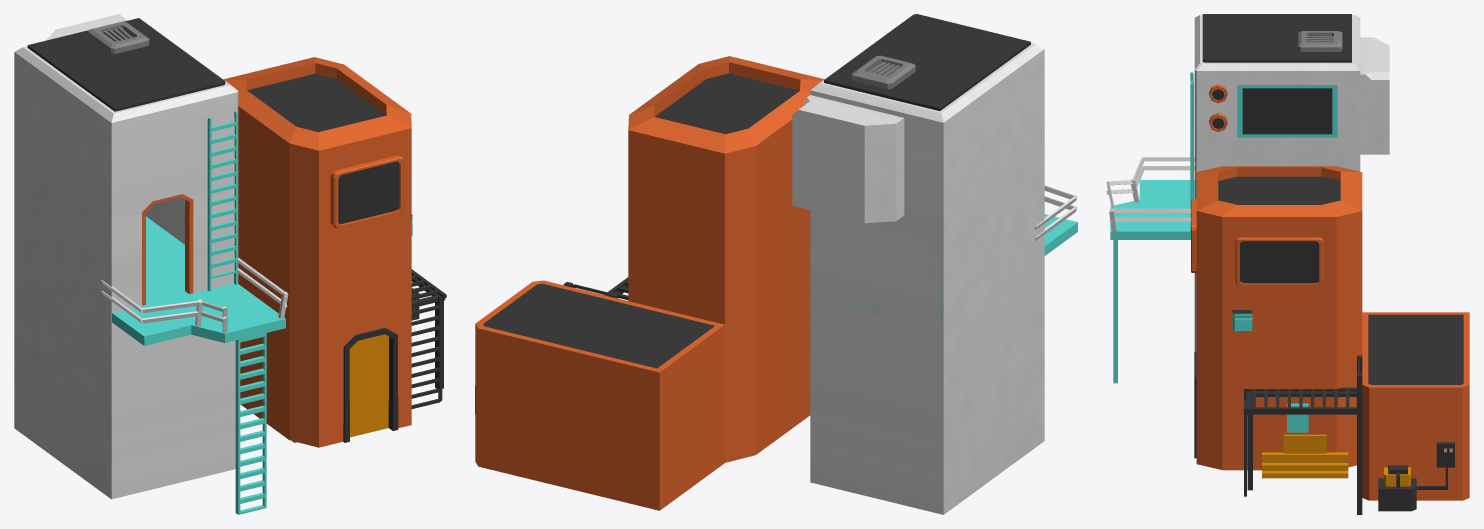
Rendered from building1.glb.
3 renders of one model, left to right at view 1: azimuth 30°, elevation 25°; view 2: azimuth 150°, elevation 25°; view 3: azimuth 270°, elevation 25°, orthographic. The views are drawn at different scales.
Visible parts, largest first — view 1: Cube, Cube.001; view 2: Cube, Cube.001; view 3: Cube.001, Cube.
Boxes of the visible parts, box(x1,y1,x2,y2) form: Cube: box(14, 14, 288, 514); Cube.001: box(223, 57, 446, 447); Cube: box(792, 14, 1077, 514); Cube.001: box(475, 56, 824, 510); Cube.001: box(1191, 166, 1469, 514); Cube: box(1106, 14, 1389, 383).
Bounding box in the file's own units: 9.67 × 9.36 × 8.56.
Materials: 6 (1 with a texture image).
